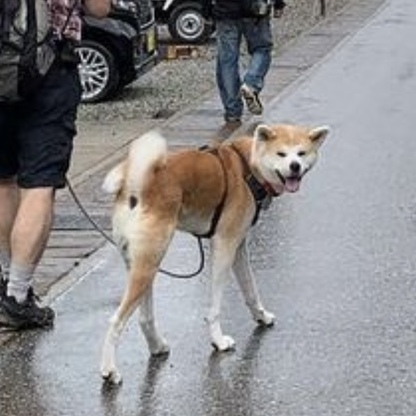akita: (88, 113, 334, 388)
